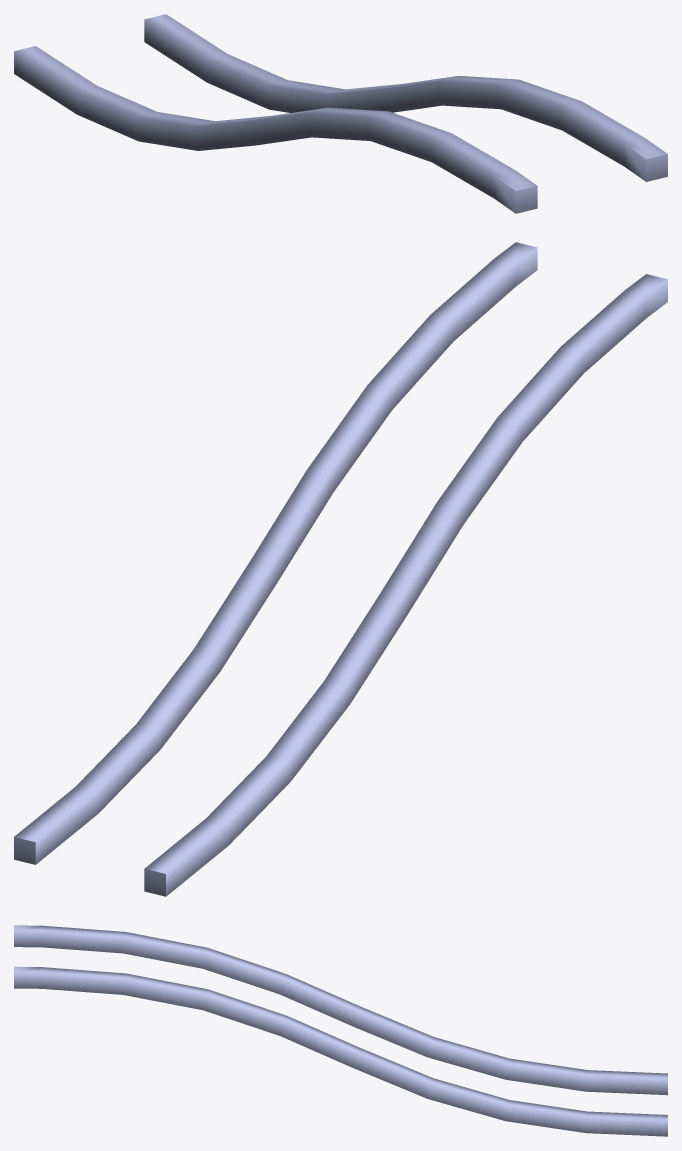
Rendered from railroad-rail-straight-hill-complete.glb.
3 views of the same model, one above another, from view 1: azimuth 30°, elevation 25°; view 2: azimuth 150°, elevation 25°; view 3: azimuth 270°, elevation 25° (orthographic). The views are drawn at different scales.
Visible parts, largest first — view 1: railroad-rail-straight-hill-complete; view 2: railroad-rail-straight-hill-complete; view 3: railroad-rail-straight-hill-complete.
Part boxes in pixels (x1,y1,x2,y2): railroad-rail-straight-hill-complete: (14,14,667,213); railroad-rail-straight-hill-complete: (14,242,667,896); railroad-rail-straight-hill-complete: (14,925,667,1136).
Bounding box in the file's own units: 0.7 × 1.1 × 4.
1 material, 1 textured.
